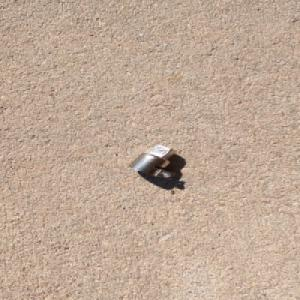MetalPart: (125, 143, 177, 180)
